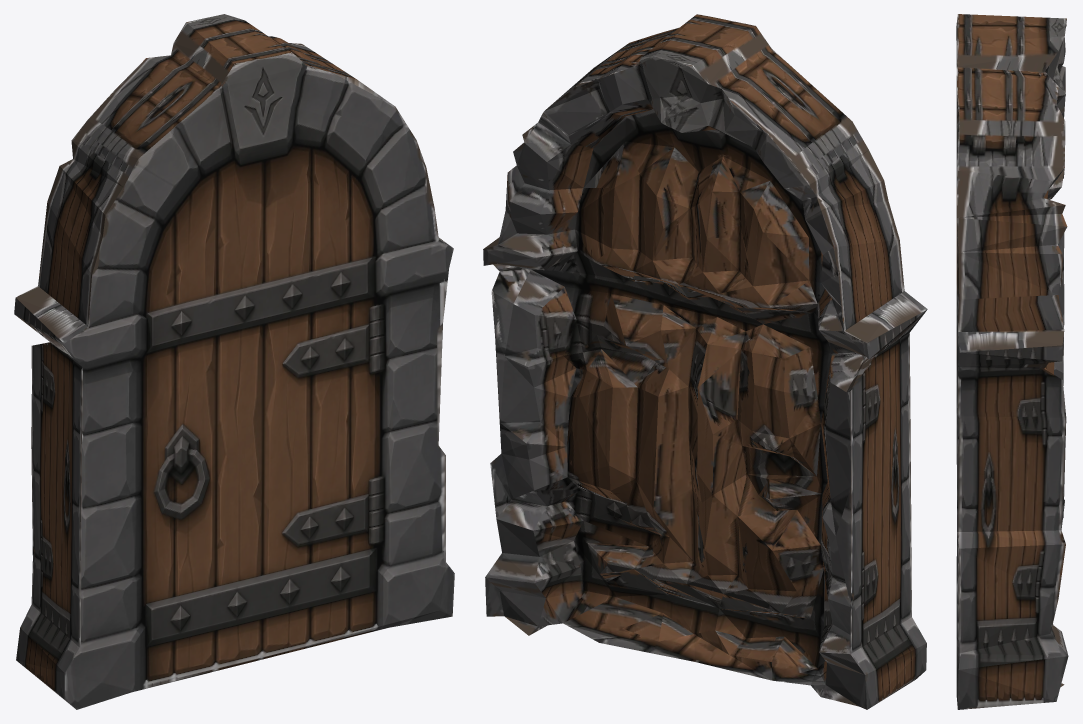
The model's file is SM_Dungeon_Door_A_LOD1.glb.
3 views of the same model, side by side, from view 1: azimuth 30°, elevation 25°; view 2: azimuth 150°, elevation 25°; view 3: azimuth 270°, elevation 25° (orthographic). The views are drawn at different scales.
Parts seen in each view (by area): view 1: SM_Dungeon_Door_A_LOD1; view 2: SM_Dungeon_Door_A_LOD1; view 3: SM_Dungeon_Door_A_LOD1.
Boxes of the visible parts, <box> form: SM_Dungeon_Door_A_LOD1: <box>14,14,454,709</box>; SM_Dungeon_Door_A_LOD1: <box>483,14,927,709</box>; SM_Dungeon_Door_A_LOD1: <box>956,14,1068,709</box>.
Size of the model in its own units: 2.02 by 2.99 by 0.5125.
Materials: 1 (1 with a texture image).
